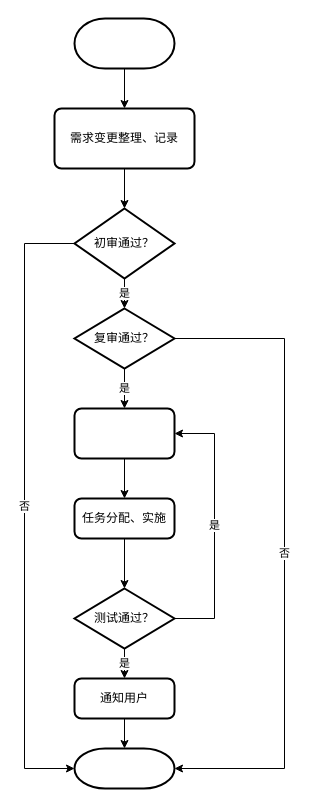
Image size: 310x806. Some labels were removed from this diagram. The shapes that lost their labels are listed below. From the top down, each one's centre as x and y in pixels, then its label:
At (124,43): "开始".
At (124,433): "变更任务分配表".
At (124,768): "结束".
